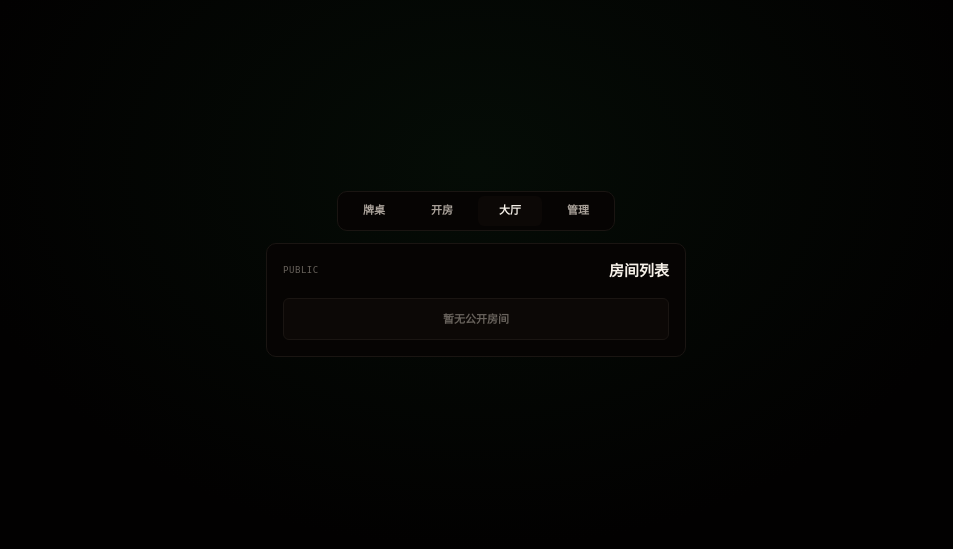
Scenario: App shell › hydrates the table from the start-room response when a filtered view is returned
Step 1. Click the button "开房" → {"x": 442, "y": 211}, box [410, 196, 474, 226]
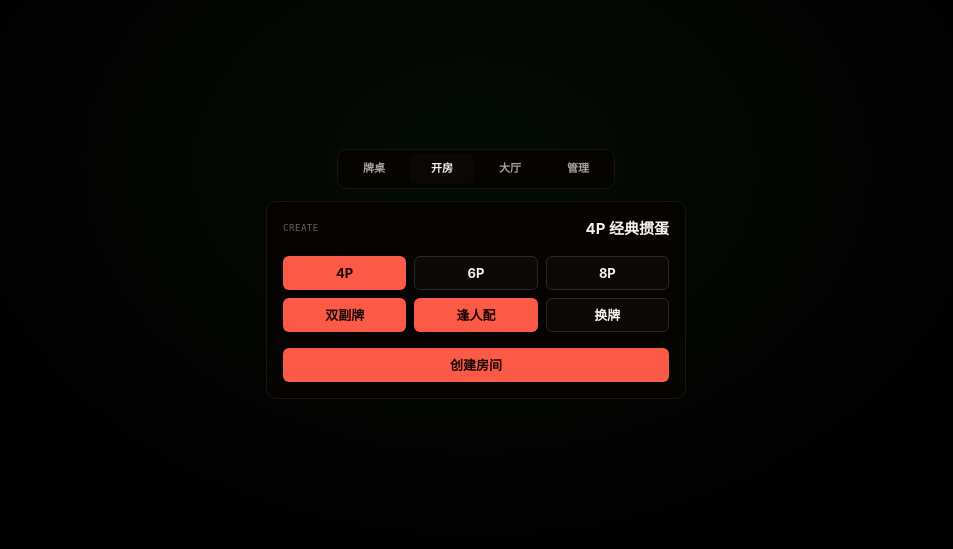
Step 2. Click the button "创建房间" → {"x": 476, "y": 365}, box [283, 348, 669, 382]
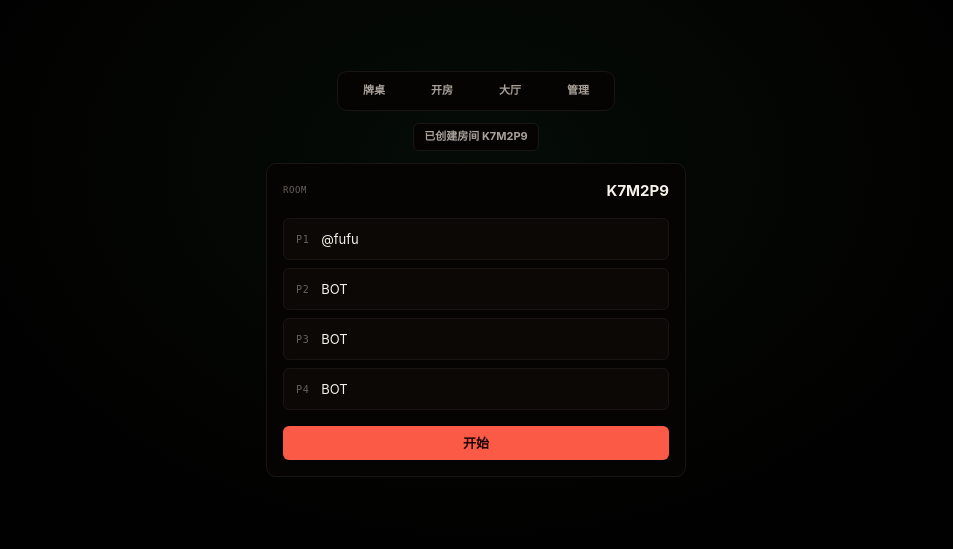
Step 3. Click the button "开始" → {"x": 476, "y": 443}, box [283, 426, 669, 460]
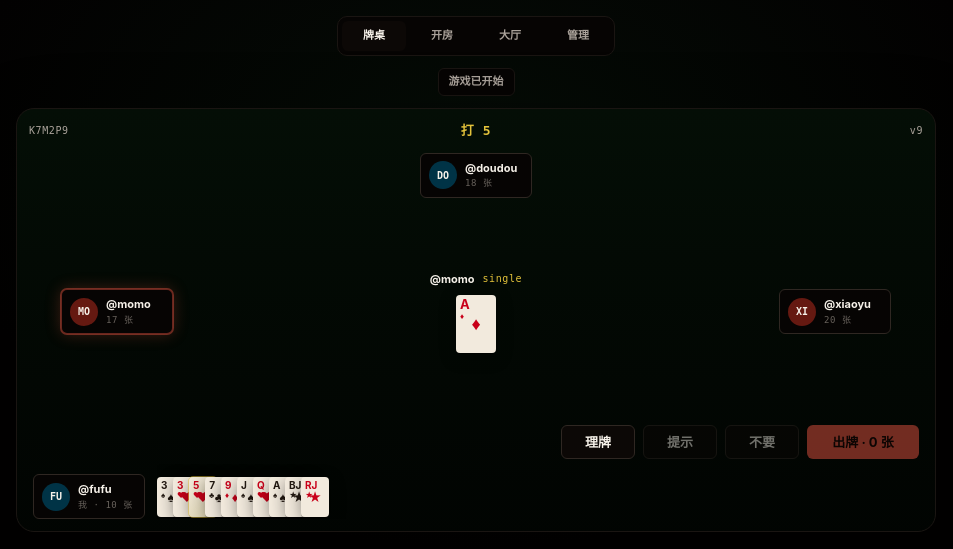
Check: the element named "Guandan table" is shown
Check: the text "打 5" is shown, box [461, 121, 491, 140]
Check: the button named "3 of spades" is shown, box [157, 477, 185, 517]
